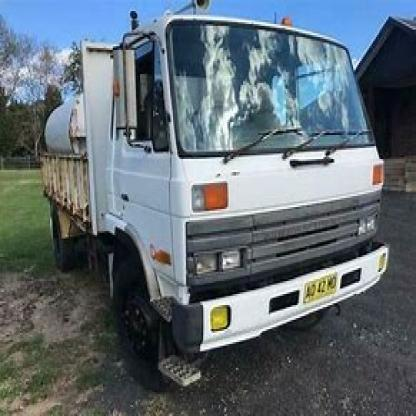dump_truck: (31, 11, 390, 392)
